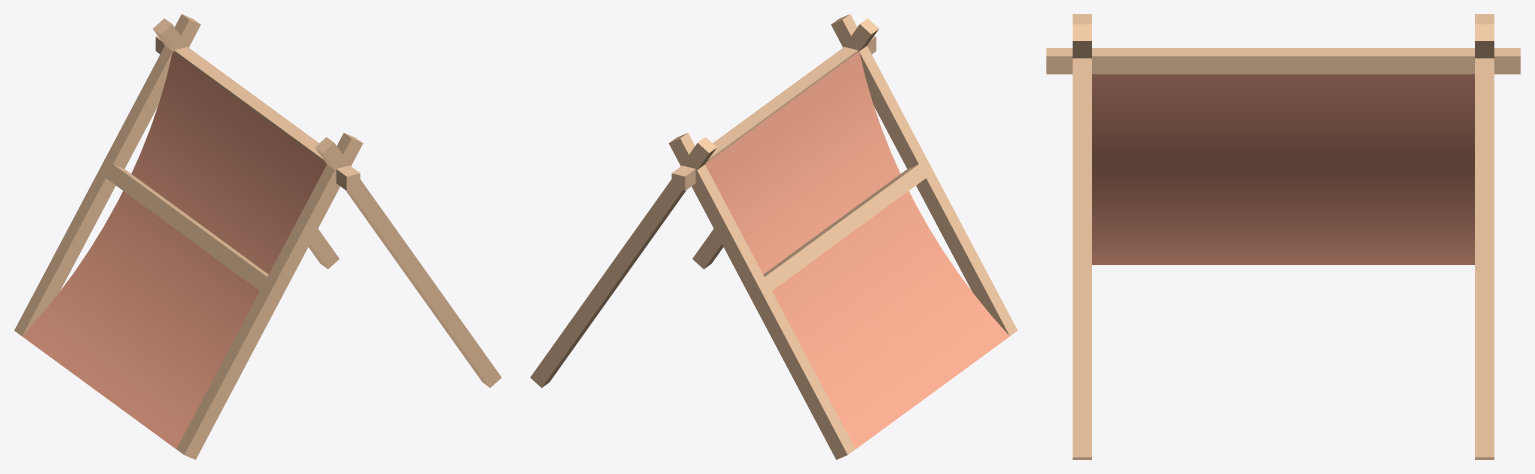
Rendered from tentHalf.glb.
The picture shows the model from 3 angles, left to right: view 1: azimuth 30°, elevation 25°; view 2: azimuth 150°, elevation 25°; view 3: azimuth 270°, elevation 25°; orthographic projection. The views are drawn at different scales.
Visible parts, largest first — view 1: tentHalf; view 2: tentHalf; view 3: tentHalf.
Part boxes in pixels (x1,y1,x2,y2): tentHalf: (14,14,501,459); tentHalf: (530,14,1017,459); tentHalf: (1046,14,1520,459).
Size of the model in its own units: 2.16 by 1.84 by 2.25.
